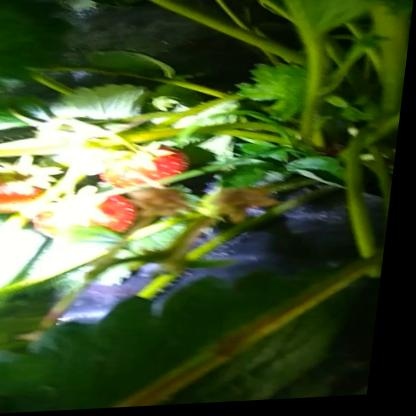ripe: (30, 189, 149, 241), (105, 148, 202, 193), (0, 179, 59, 218)
